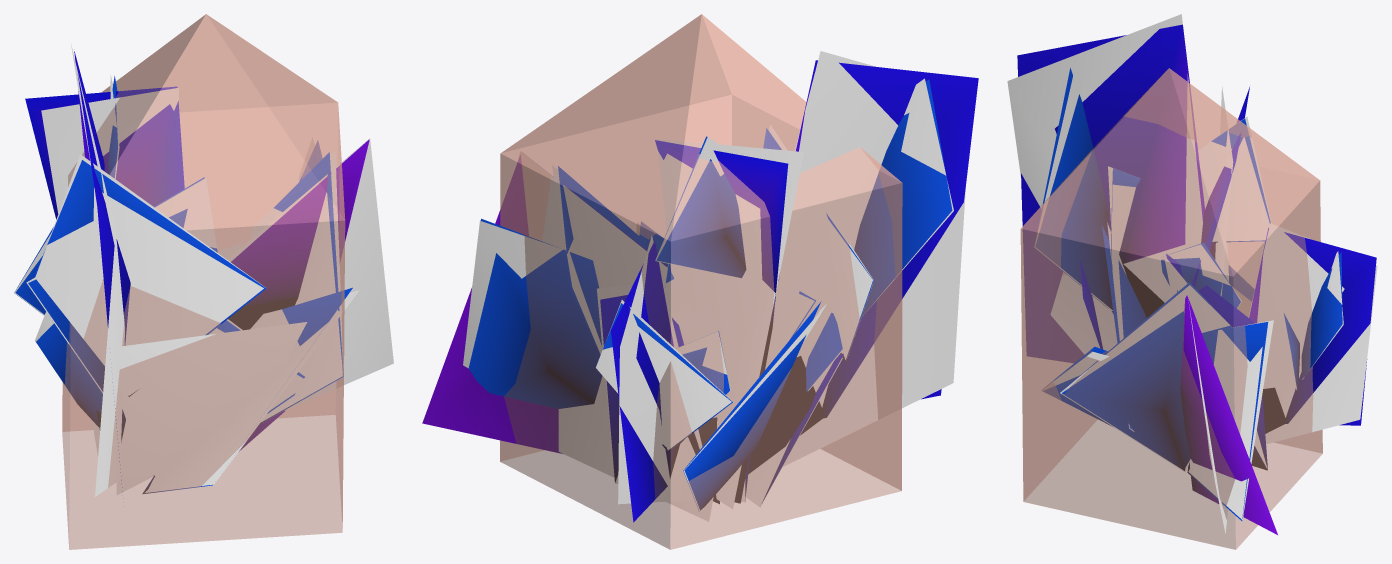
File: Juniper_bush_small_02.dae
3 views of the same model, side by side, from view 1: azimuth 30°, elevation 25°; view 2: azimuth 150°, elevation 25°; view 3: azimuth 270°, elevation 25° (orthographic). The views are drawn at different scales.
Parts seen in each view (by area): view 1: Colmesh-1, Juniper_small_02_a80, Juniper_small_02_a150; view 2: Colmesh-1, Juniper_small_02_a80, Juniper_small_02_a150; view 3: Colmesh-1, Juniper_small_02_a150, Juniper_small_02_a80.
Boxes of the visible parts, x1,y1,x2,y2 form: Colmesh-1: (62,14,345,549); Juniper_small_02_a80: (14,44,393,496); Juniper_small_02_a150: (14,51,369,493); Colmesh-1: (500,14,902,549); Juniper_small_02_a80: (463,51,965,521); Juniper_small_02_a150: (422,60,978,522); Colmesh-1: (1020,68,1322,549); Juniper_small_02_a150: (1017,24,1376,534); Juniper_small_02_a80: (1007,14,1377,533).
Bounding box in the file's own units: 1.93 × 1.62 × 2.03.
